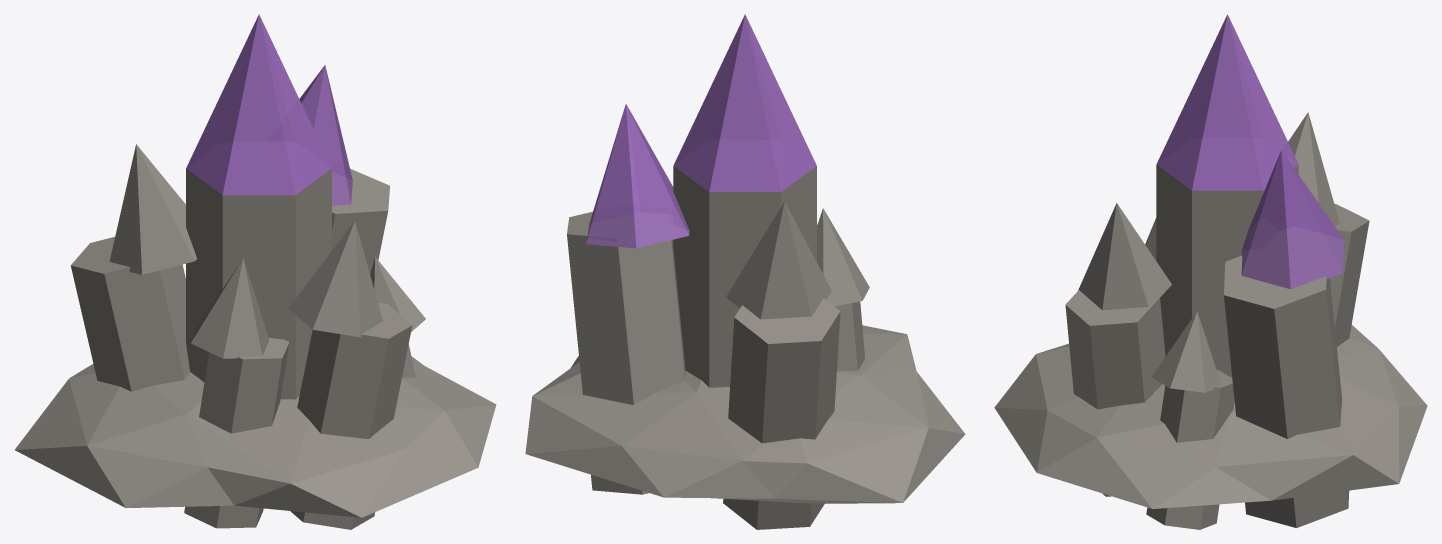
Rendered from crystal_cluster.fbx.
3 views of the same model, side by side, from view 1: azimuth 30°, elevation 25°; view 2: azimuth 150°, elevation 25°; view 3: azimuth 270°, elevation 25° (orthographic). The views are drawn at different scales.
Visible parts, largest first — view 1: crystal_cluster; view 2: crystal_cluster; view 3: crystal_cluster.
Part boxes in pixels (x1=…): crystal_cluster: x1=15, y1=14, x2=496, y2=529; crystal_cluster: x1=525, y1=14, x2=965, y2=529; crystal_cluster: x1=994, y1=14, x2=1427, y2=529.
Size of the model in its own units: 0.381 by 0.4265 by 0.3653.
